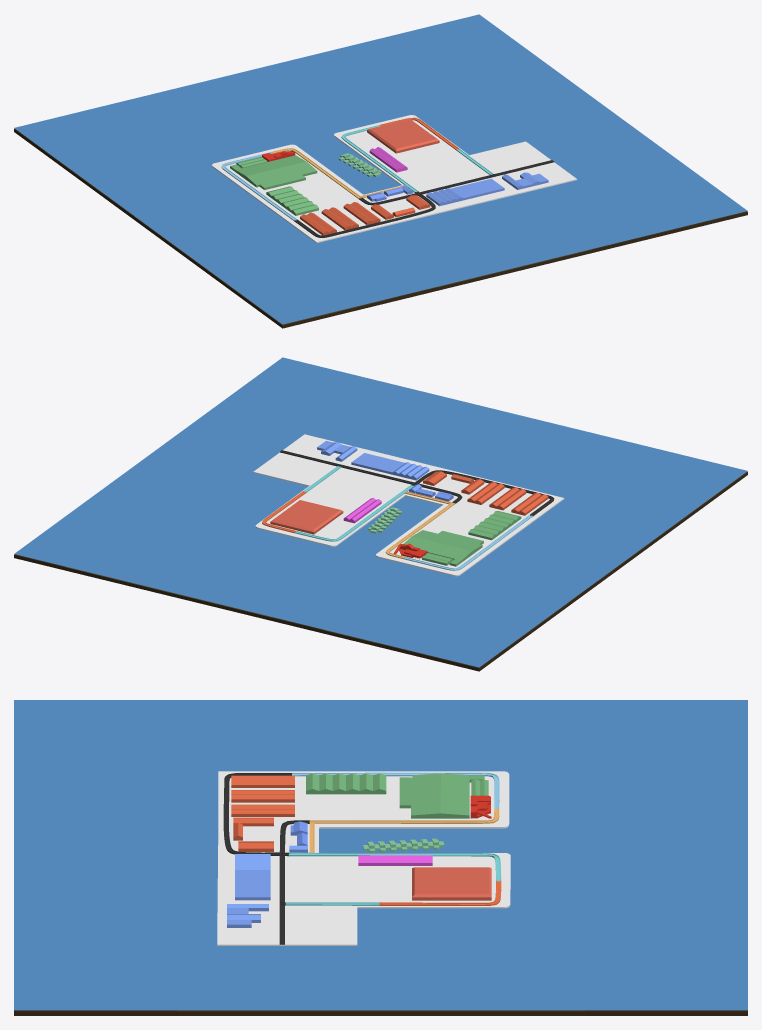
Rendered from manseok-hwasu-map-revised.glb.
3 renders of one model, top to bottom at view 1: azimuth 30°, elevation 25°; view 2: azimuth 150°, elevation 25°; view 3: azimuth 270°, elevation 25°, orthographic. The views are drawn at different scales.
Visible parts, largest first — view 1: SeaPlane, BasePlane.001, MudBase, Roads, Cube.027, Cube.026, Cube.021, Cube.028; view 2: SeaPlane, BasePlane.001, MudBase, Roads, Cube.027, Cube.026, Cube.021, Cube.028; view 3: SeaPlane, BasePlane.001, Roads, MudBase, Cube.027, Cube.026, Cube.021, Cube.028, Cube.031, Cube.030, Cube.029, Cube.025 (+2 smaller).
Boxes of the visible parts, x1=… form: SeaPlane: x1=14, y1=14, x2=747, y2=324; BasePlane.001: x1=212, y1=115, x2=577, y2=242; MudBase: x1=14, y1=128, x2=747, y2=328; Roads: x1=221, y1=117, x2=554, y2=237; Cube.027: x1=230, y1=155, x2=317, y2=189; Cube.026: x1=367, y1=119, x2=439, y2=153; Cube.021: x1=426, y1=178, x2=504, y2=206; Cube.028: x1=266, y1=186, x2=318, y2=215; SeaPlane: x1=14, y1=357, x2=747, y2=667; BasePlane.001: x1=253, y1=434, x2=564, y2=576; MudBase: x1=14, y1=471, x2=747, y2=671; Roads: x1=262, y1=450, x2=554, y2=570; Cube.027: x1=403, y1=530, x2=483, y2=566; Cube.026: x1=270, y1=500, x2=343, y2=534; Cube.021: x1=351, y1=453, x2=429, y2=480; Cube.028: x1=468, y1=511, x2=521, y2=540; SeaPlane: x1=14, y1=700, x2=747, y2=1010; BasePlane.001: x1=217, y1=771, x2=510, y2=945; Roads: x1=223, y1=772, x2=501, y2=944; MudBase: x1=14, y1=1010, x2=747, y2=1015; Cube.027: x1=399, y1=773, x2=484, y2=818; Cube.026: x1=412, y1=867, x2=491, y2=900; Cube.021: x1=235, y1=854, x2=270, y2=900; Cube.028: x1=306, y1=773, x2=386, y2=794; Cube.031: x1=231, y1=775, x2=294, y2=787; Cube.030: x1=231, y1=790, x2=294, y2=802; Cube.029: x1=231, y1=804, x2=294, y2=816; Cube.025: x1=358, y1=855, x2=432, y2=865.
Size of the model in its own units: 12.77 by 0.3082 by 12.77.
